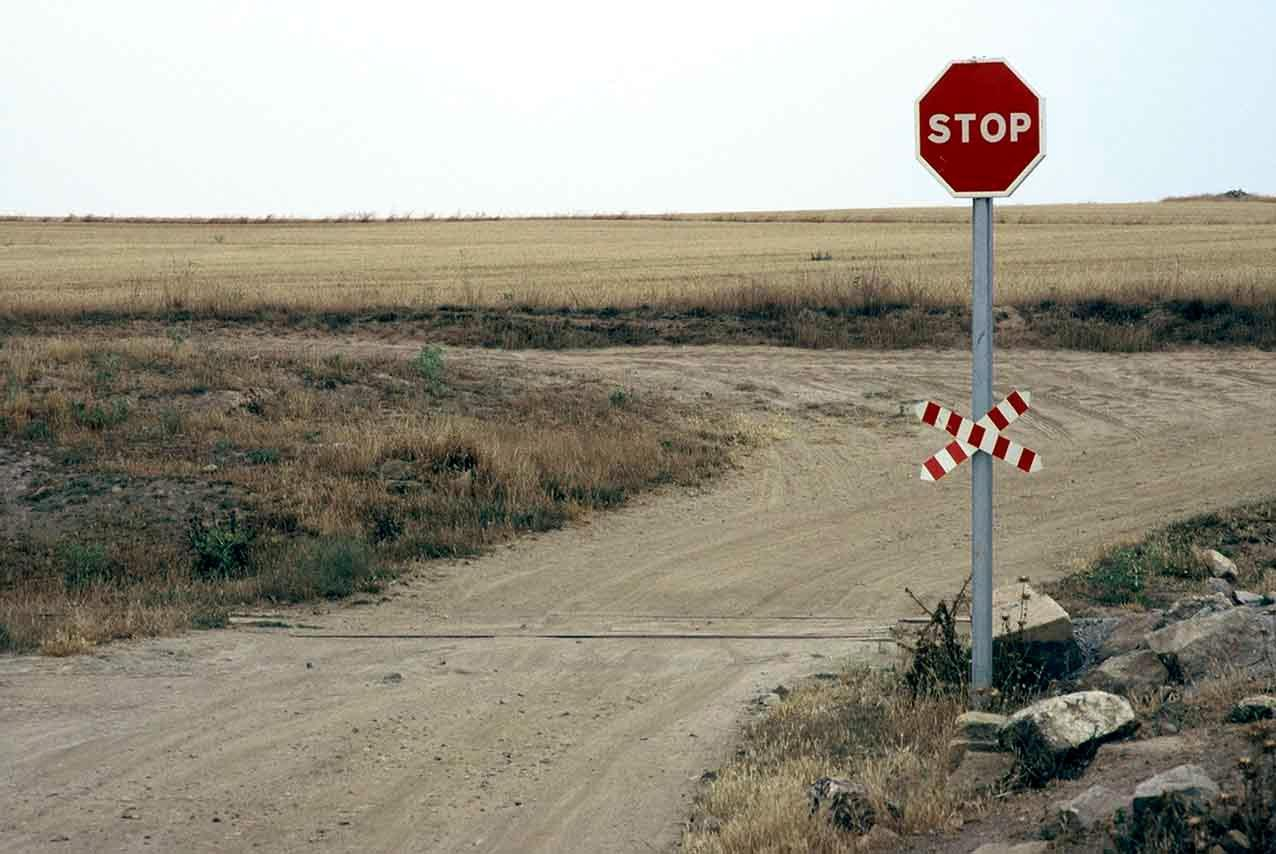Pole: (971, 203, 995, 698)
Sign: (913, 61, 1046, 194)
